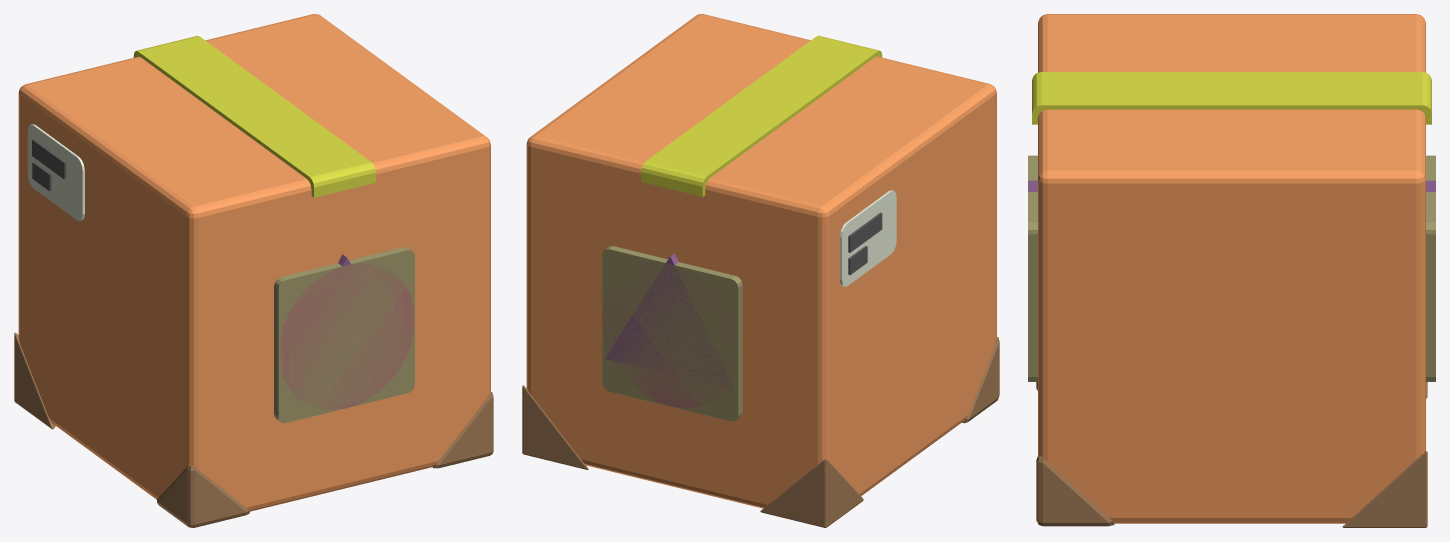
3 views of the same model, side by side, from view 1: azimuth 30°, elevation 25°; view 2: azimuth 150°, elevation 25°; view 3: azimuth 270°, elevation 25° (orthographic). The views are drawn at different scales.
Parts seen in each view (by area): view 1: Box, Simbol_01, Simbol_02; view 2: Box, Simbol_01, Simbol_02, Simbol_03; view 3: Box, Simbol_01.
Part boxes in pixels (x1,y1,x2,y2): Box: (14, 14, 493, 527); Simbol_01: (274, 247, 414, 423); Simbol_02: (279, 263, 414, 409); Box: (522, 14, 999, 527); Simbol_01: (602, 246, 742, 421); Simbol_02: (602, 262, 737, 408); Simbol_03: (605, 253, 734, 390); Box: (1032, 14, 1431, 527); Simbol_01: (1028, 155, 1435, 381).
Size of the model in its own units: 2.04 by 2.03 by 2.1.
